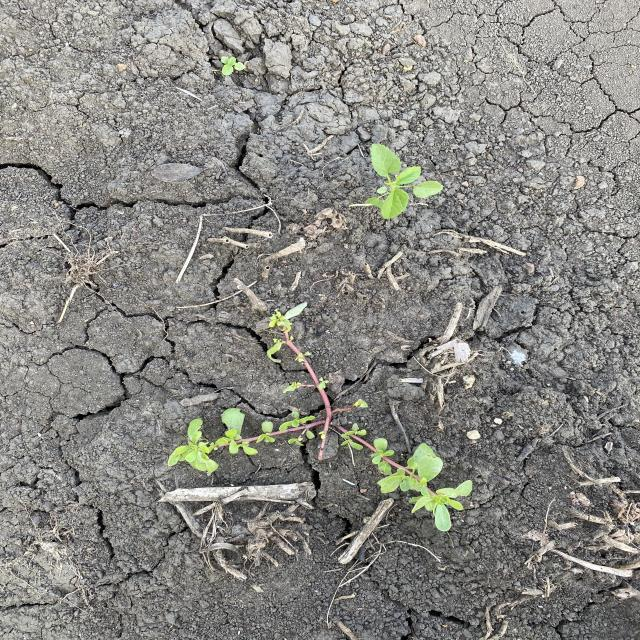PricklySida: (362, 143, 446, 220)
Purslane: (165, 299, 476, 533)
